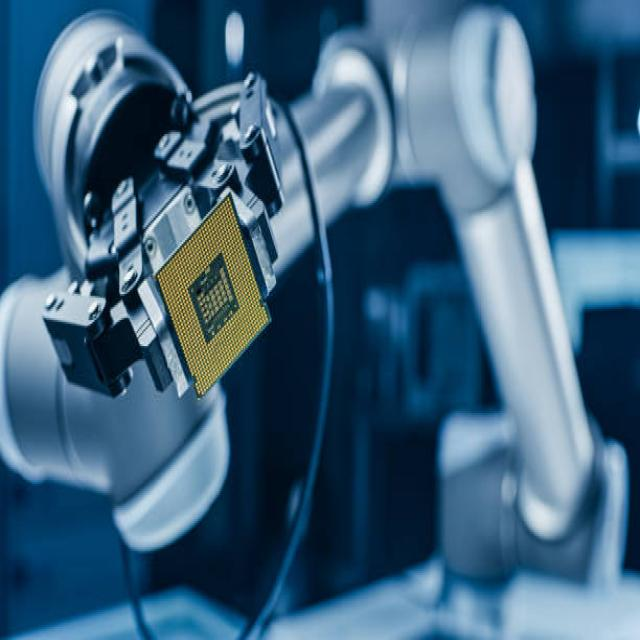Robotic-arm: (0, 0, 633, 585)
